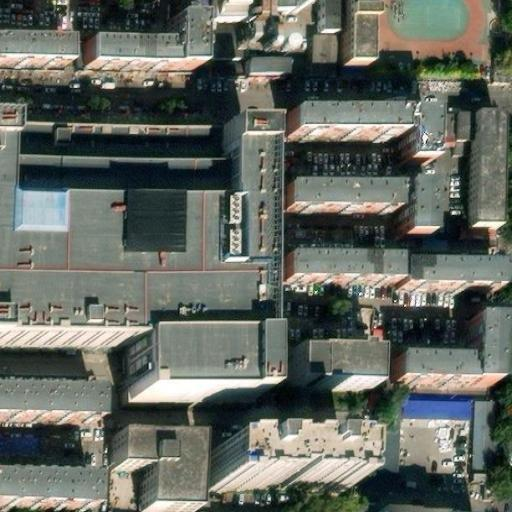building: (0, 128, 241, 336), (140, 389, 267, 450), (213, 454, 344, 500), (116, 446, 200, 512), (284, 182, 400, 216), (468, 123, 501, 240), (0, 465, 96, 503), (285, 254, 398, 286), (398, 264, 501, 298), (285, 345, 370, 385), (363, 403, 399, 493), (287, 118, 404, 145), (0, 379, 92, 412), (470, 399, 502, 492), (79, 39, 164, 69), (462, 312, 494, 379), (386, 351, 463, 378), (211, 0, 291, 25), (341, 0, 368, 66), (400, 192, 427, 247), (164, 18, 193, 69), (0, 42, 57, 67), (408, 400, 471, 422), (403, 120, 427, 173), (373, 500, 468, 512), (440, 113, 471, 146), (0, 434, 41, 456), (214, 34, 245, 58), (319, 0, 336, 40), (209, 70, 238, 89), (246, 66, 276, 82), (209, 58, 240, 70), (274, 47, 287, 60), (295, 5, 305, 15), (295, 0, 304, 3)
